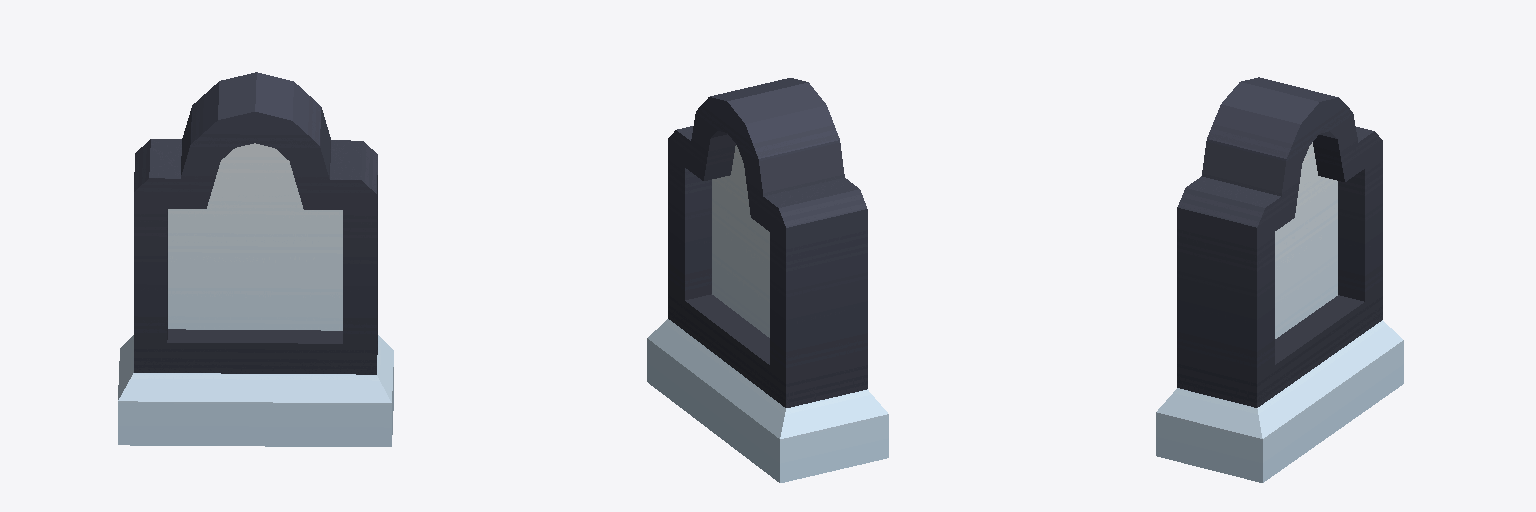
3 renders of one model, left to right at view 1: azimuth 30°, elevation 25°; view 2: azimuth 150°, elevation 25°; view 3: azimuth 270°, elevation 25°, orthographic.
Parts seen in each view (by area): view 1: gravestone-bevel.002; view 2: gravestone-bevel.002; view 3: gravestone-bevel.002.
Boxes of the visible parts, box(x1,y1,x2,y2) form: gravestone-bevel.002: box(118, 72, 393, 446); gravestone-bevel.002: box(647, 78, 888, 482); gravestone-bevel.002: box(1156, 77, 1403, 482).
Bounding box in the file's own units: 1.18 × 1.42 × 0.9742.
1 materials, 1 textured.